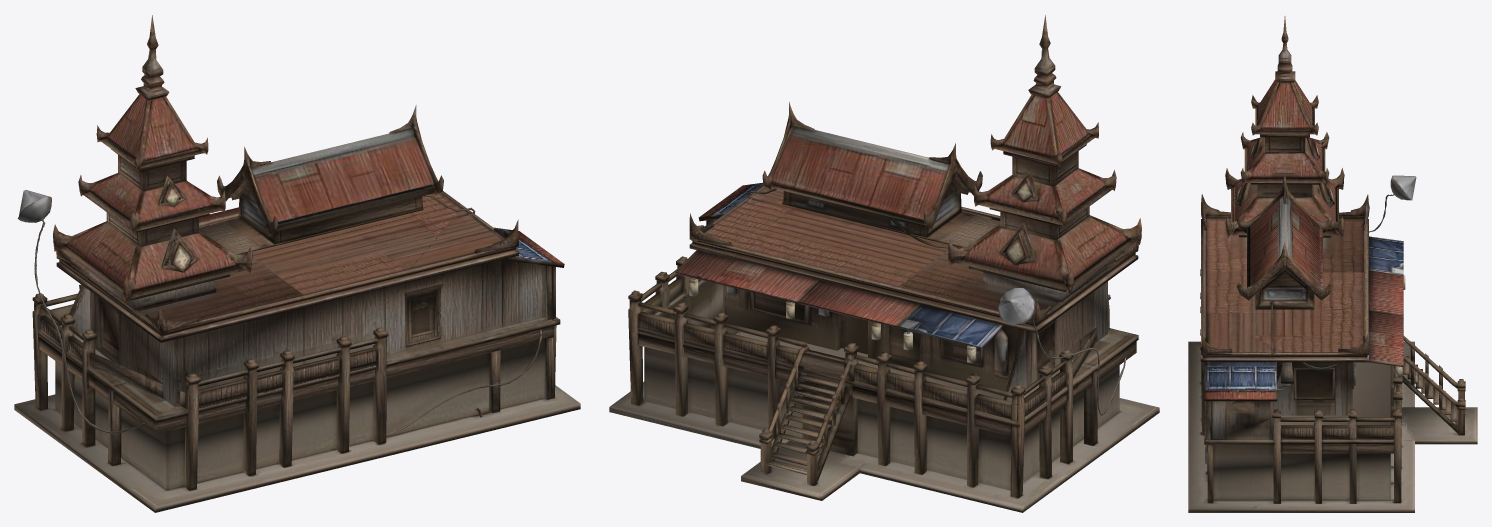
Rendered from teak_kyaung.glb.
3 views of the same model, side by side, from view 1: azimuth 30°, elevation 25°; view 2: azimuth 150°, elevation 25°; view 3: azimuth 270°, elevation 25° (orthographic). The views are drawn at different scales.
Parts seen in each view (by area): view 1: Body; view 2: Body; view 3: Body.
Part boxes in pixels (box(x1,y1,x2,y2)): Body: box(14, 15, 580, 512); Body: box(609, 15, 1159, 512); Body: box(1188, 16, 1477, 512).
Bounding box in the file's own units: 16 × 15.19 × 11.24.
Materials: 1 (1 with a texture image).
